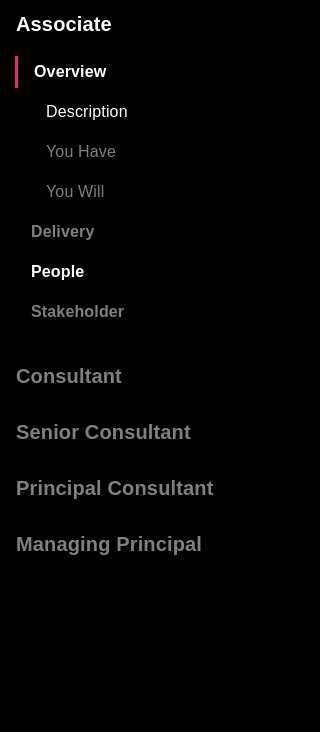
Test case: SideBarList › Select different categories › should click Stakeholder and check all competencies are visible
Click the button with test id "associate-stakeholder" at (78, 312), box left=31, top=303, right=124, bottom=320
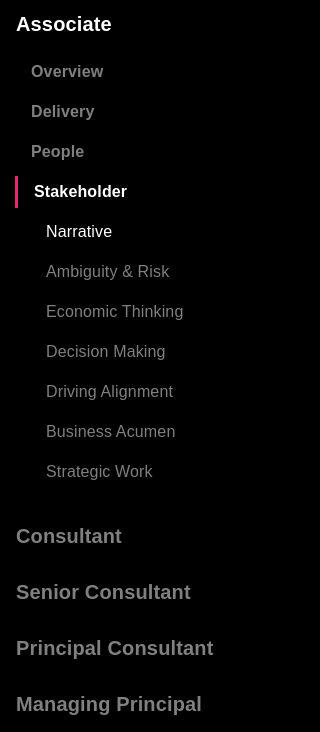
Now the button "Narrative" is shown, box left=46, top=223, right=112, bottom=240
Now the button "Ambiguity & Risk" is shown, box left=46, top=263, right=169, bottom=280
Now the button "Economic Thinking" is shown, box left=46, top=303, right=183, bottom=320
